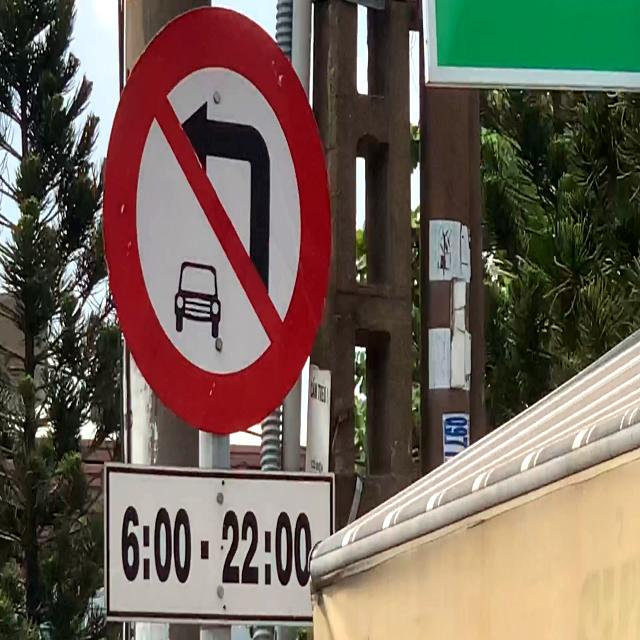P.103c: (101, 5, 333, 438)
